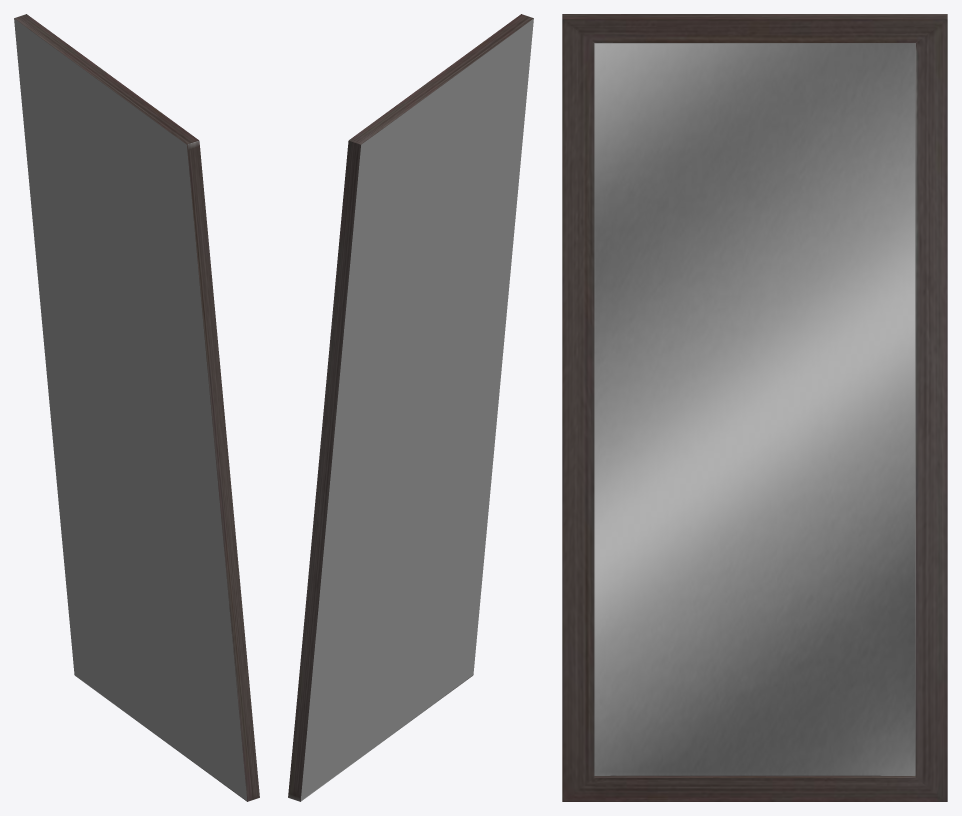
File: DR_Mirror_2.fbx
3 views of the same model, side by side, from view 1: azimuth 30°, elevation 25°; view 2: azimuth 150°, elevation 25°; view 3: azimuth 270°, elevation 25° (orthographic). The views are drawn at different scales.
Visible parts, largest first — view 1: DR_Mirror_2; view 2: DR_Mirror_2; view 3: DR_Mirror_2.
Part boxes in pixels (x1,y1,x2,y2): DR_Mirror_2: (14, 14, 259, 801); DR_Mirror_2: (288, 14, 533, 801); DR_Mirror_2: (562, 14, 947, 801).
Bounding box in the file's own units: 94.07 × 828 × 385.
